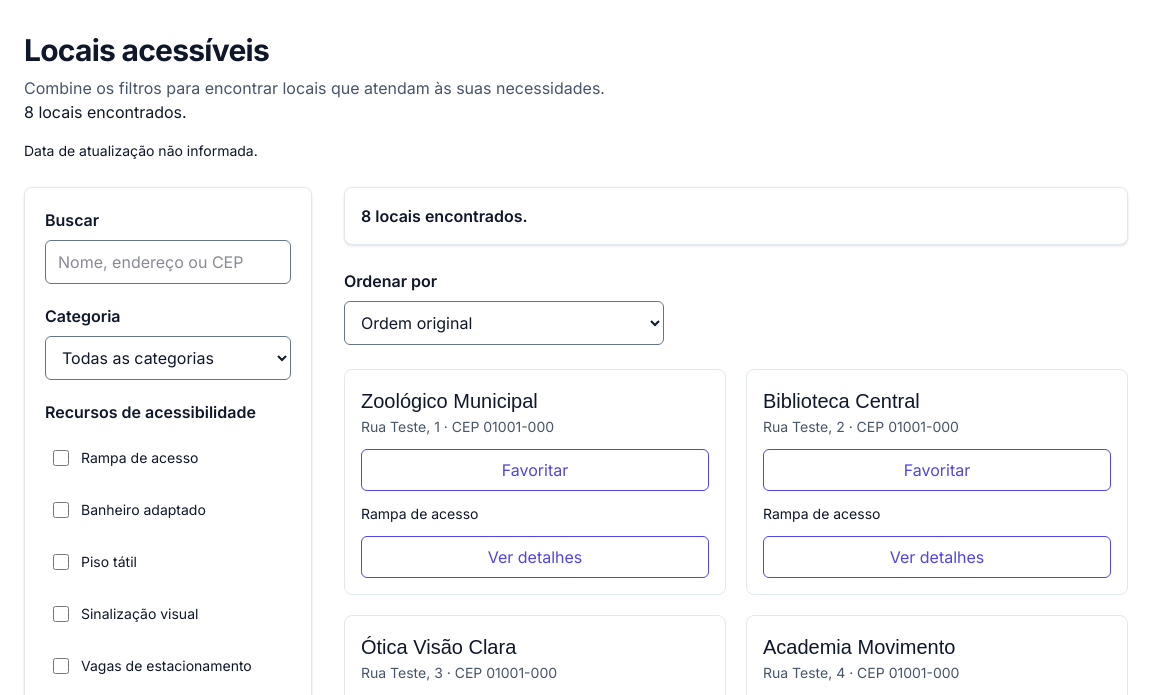
Scenario: Ordenação e contagem na página de locais › atualiza a contagem conforme os filtros ativos
Expected: the 1st message "8 locais encontrados." is shown, [24,102,187,122]
Type "Zoológico" into the dropdown labelled "Buscar".
click(168, 262); type("Zoológico")  # box [45,240,291,284]
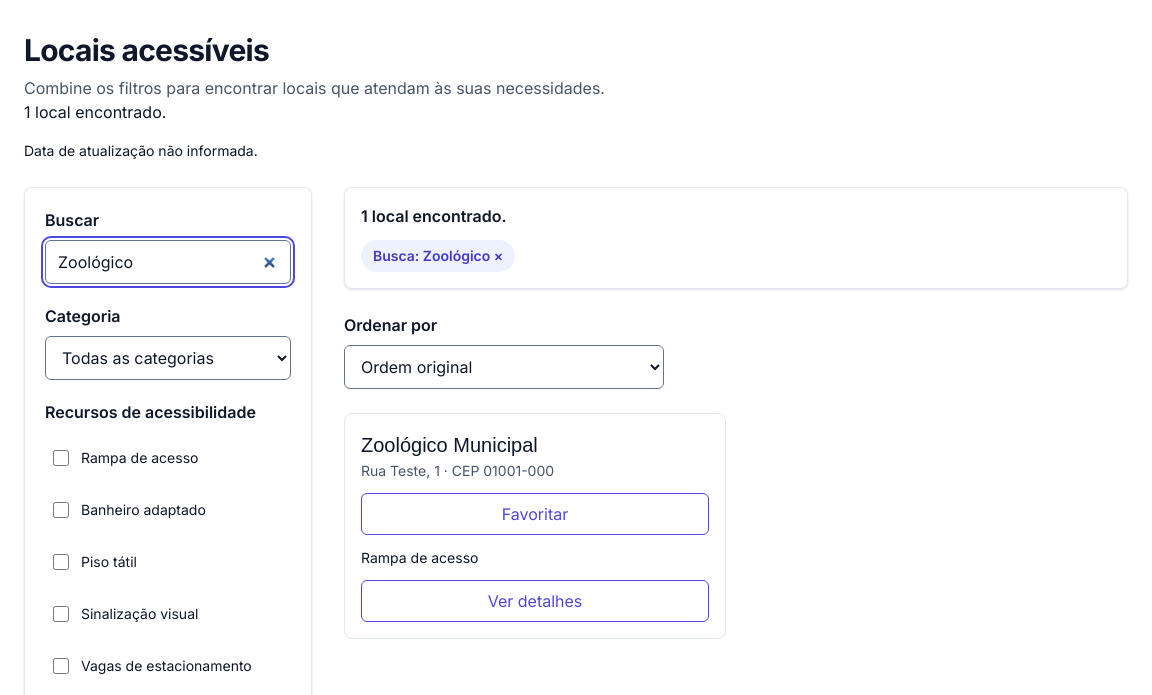
Expected: the 1st message "1 local encontrado." is shown, [24,102,166,122]
Replace the text in the dropdown labelled "Buscar" with "inexistente" at (168, 262), box [45,240,291,284]
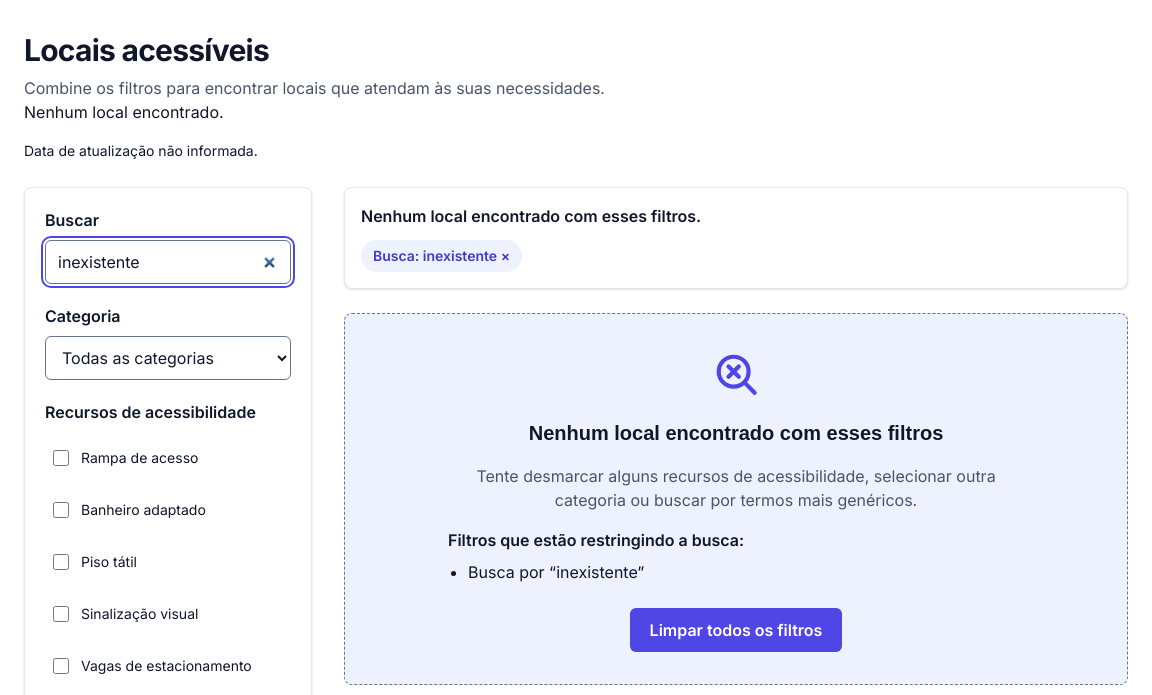
Expected: the message "Nenhum local encontrado." is shown, [24,102,224,122]
